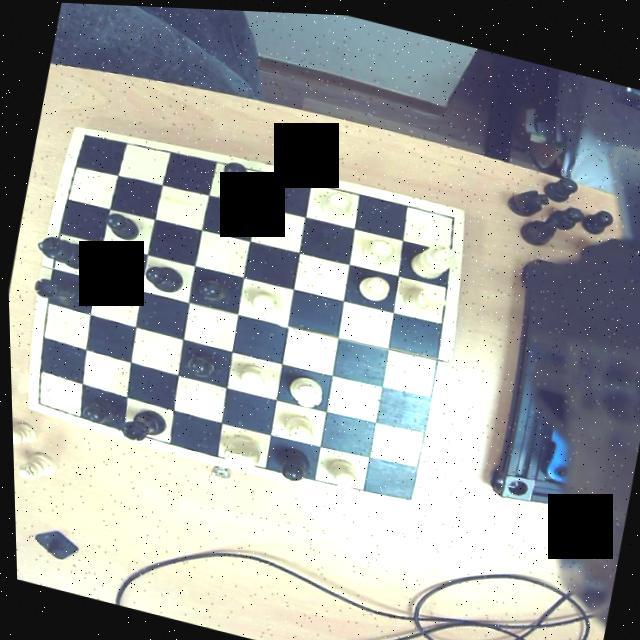chess-table-corners: (390, 476, 420, 504), (438, 202, 464, 228), (70, 124, 102, 145), (22, 386, 48, 409)
